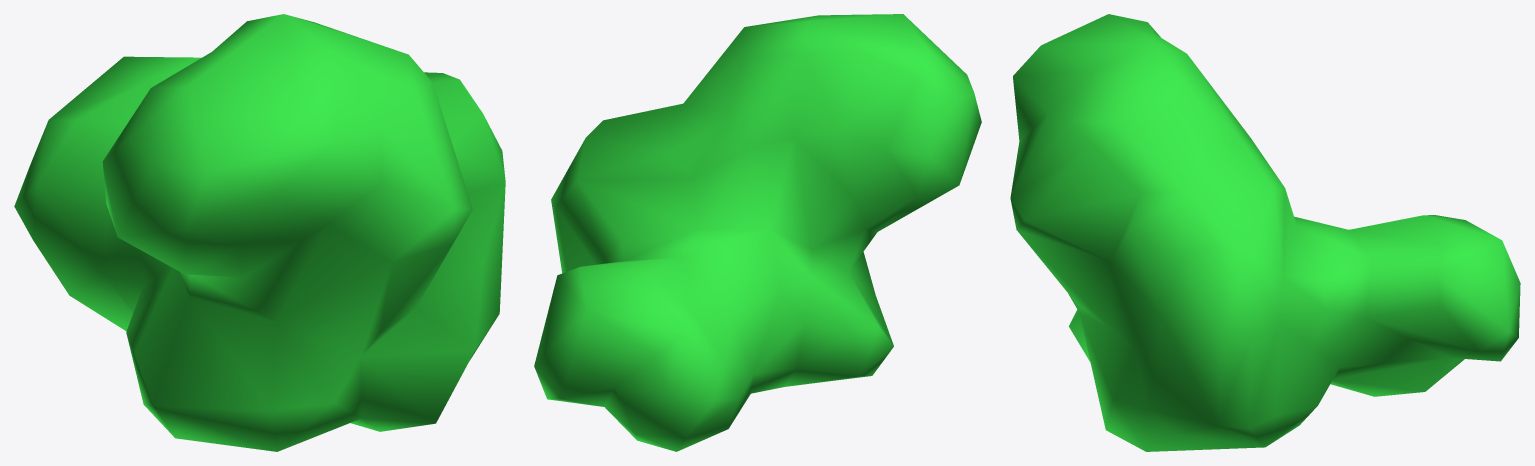
File: HIV_Vif_cMSrep_Med_1.01.dae
3 views of the same model, side by side, from view 1: azimuth 30°, elevation 25°; view 2: azimuth 150°, elevation 25°; view 3: azimuth 270°, elevation 25° (orthographic). The views are drawn at different scales.
Visible parts, largest first — view 1: Vif__MBupB2CPZ0_1_00.pdb; view 2: Vif__MBupB2CPZ0_1_00.pdb; view 3: Vif__MBupB2CPZ0_1_00.pdb.
Boxes of the visible parts, bbox=[...] form: Vif__MBupB2CPZ0_1_00.pdb: bbox=[14, 14, 505, 451]; Vif__MBupB2CPZ0_1_00.pdb: bbox=[534, 14, 981, 451]; Vif__MBupB2CPZ0_1_00.pdb: bbox=[1010, 14, 1520, 451].
Size of the model in its own units: 52.34 by 50.23 by 64.97.
